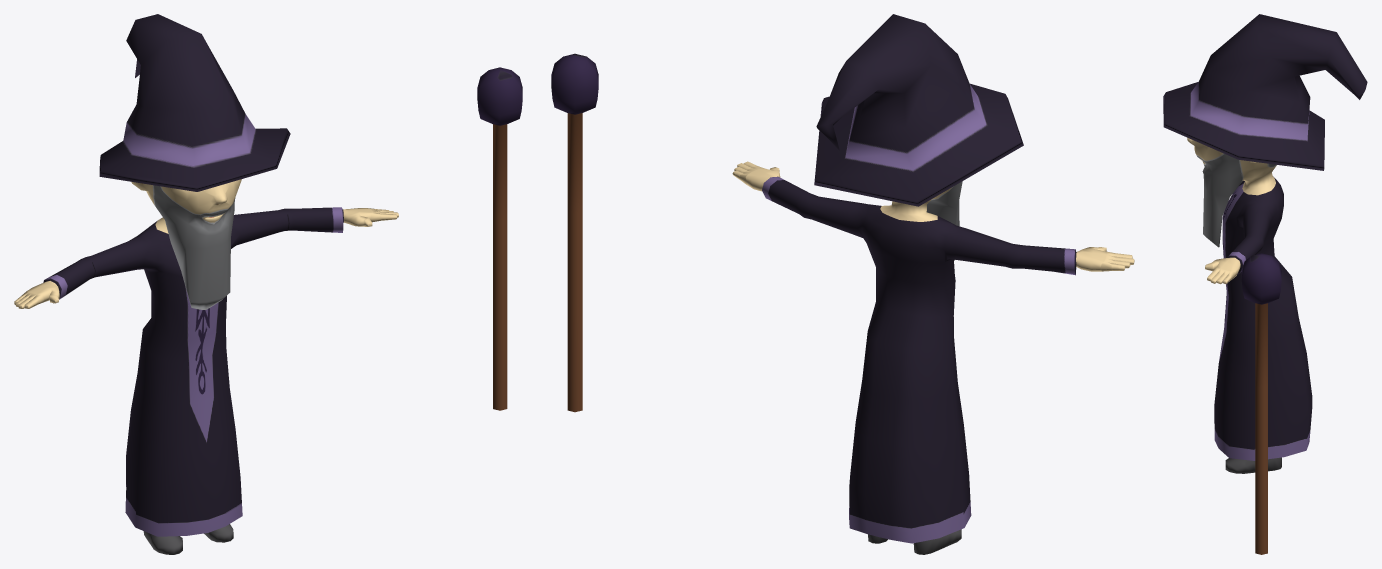
Rendered from Mage@Animated.glb.
3 views of the same model, side by side, from view 1: azimuth 30°, elevation 25°; view 2: azimuth 150°, elevation 25°; view 3: azimuth 270°, elevation 25° (orthographic). The views are drawn at different scales.
Visible parts, largest first — view 1: Mage; view 2: Mage; view 3: Mage.
Part boxes in pixels (x1,y1,x2,y2): Mage: (14,14,522,554); Mage: (551,14,1134,554); Mage: (1163,14,1367,554).
Size of the model in its own units: 3.31 by 2.96 by 1.26.
Materials: 1 (1 with a texture image).
